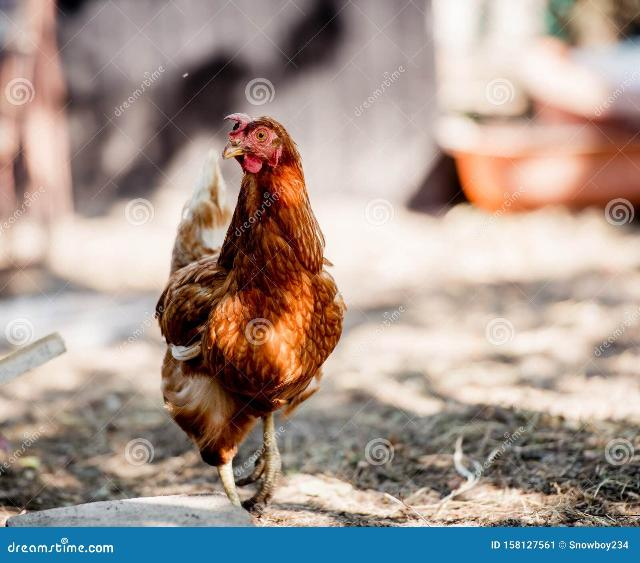Chicken: (157, 110, 344, 514)
